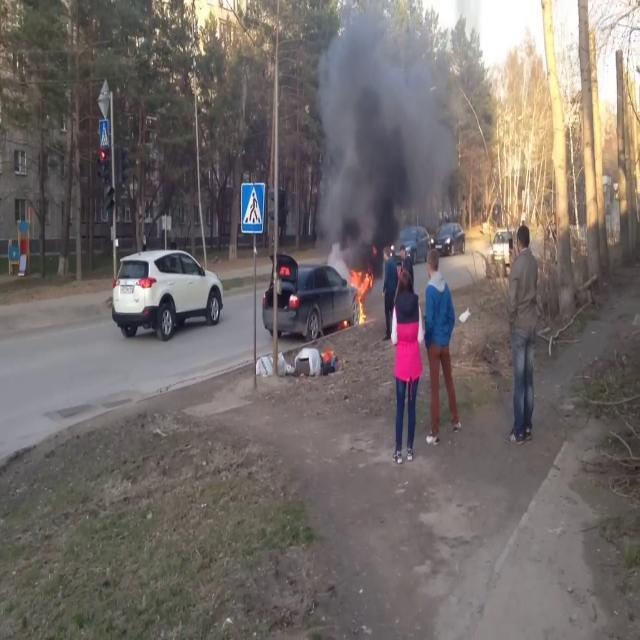Fire: (348, 262, 374, 326)
Smoke: (311, 2, 461, 262)
